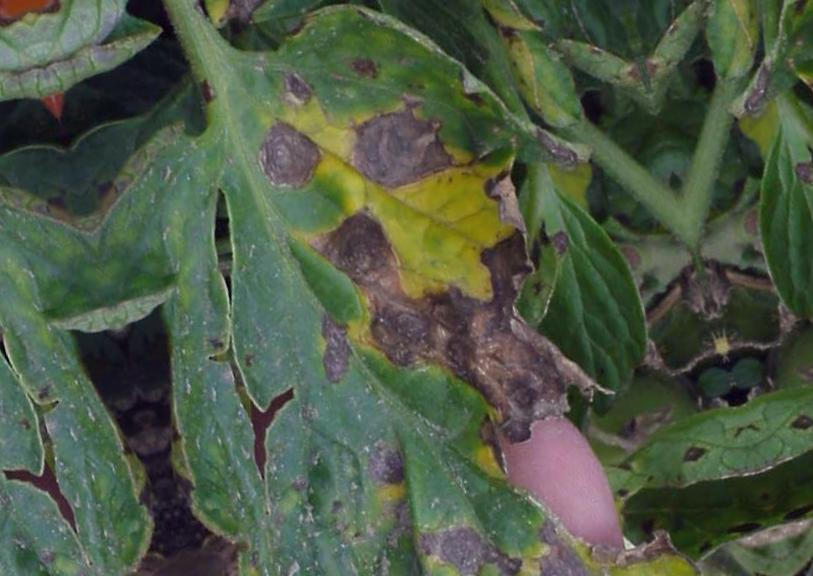Tomato Early blight leaf: (53, 0, 672, 576)
